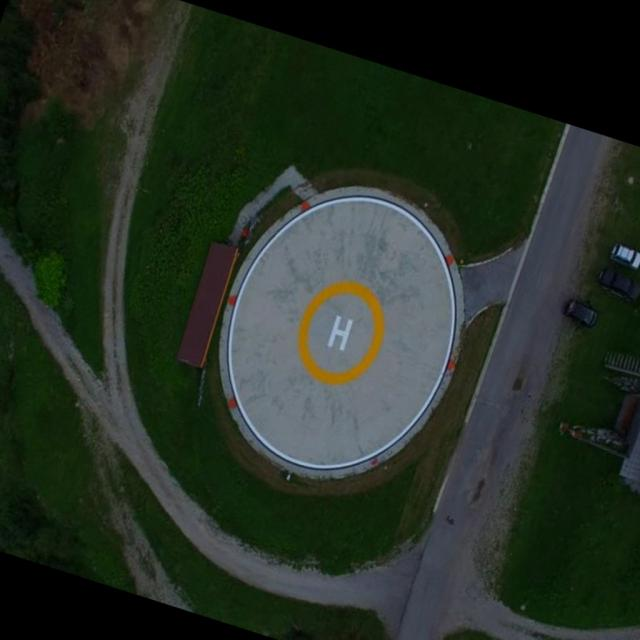helipad: (294, 278, 388, 388)
